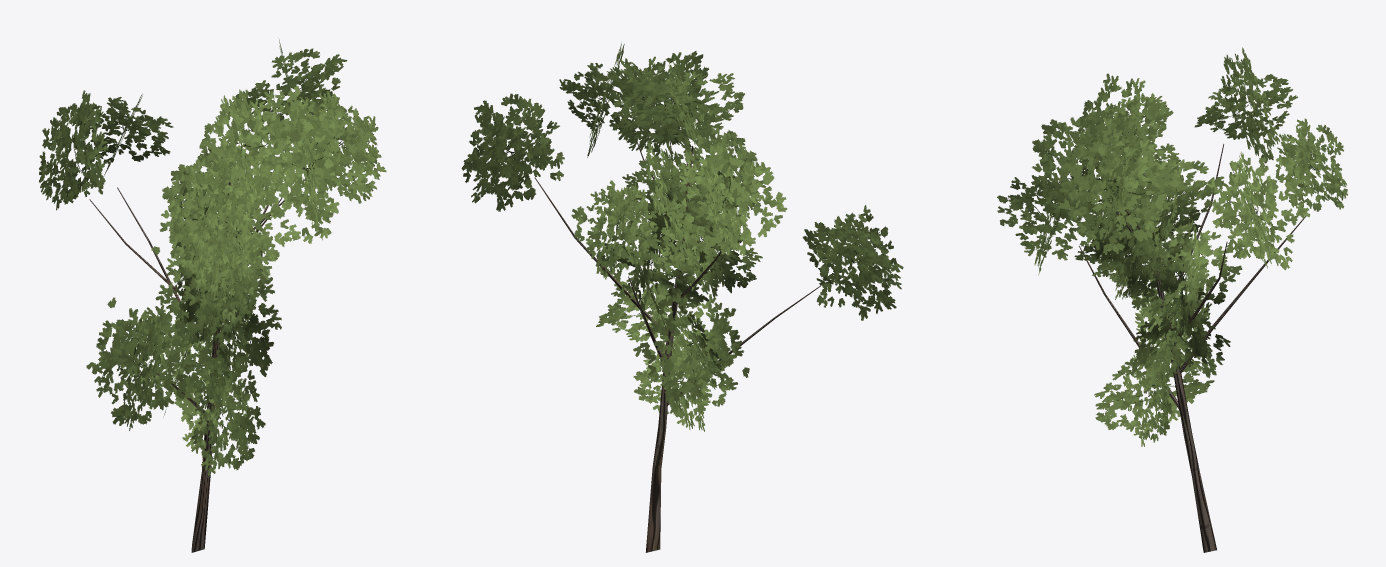
The model's file is sapling-c.lod1.glb.
3 views of the same model, side by side, from view 1: azimuth 30°, elevation 25°; view 2: azimuth 150°, elevation 25°; view 3: azimuth 270°, elevation 25° (orthographic). The views are drawn at different scales.
Visible parts, largest first — view 1: foliage, bark; view 2: foliage, bark; view 3: foliage, bark.
Part boxes in pixels (left/top/right/bottom): foliage: left=39, top=39, right=386, bottom=476; bark: left=89, top=174, right=304, bottom=552; foliage: left=461, top=42, right=903, bottom=431; bark: left=534, top=131, right=821, bottom=552; foliage: left=997, top=47, right=1347, bottom=446; bark: left=1079, top=144, right=1305, bottom=552.
Bounding box in the file's own units: 1.11 × 1.3 × 0.9587.
2 materials, 2 textured.
